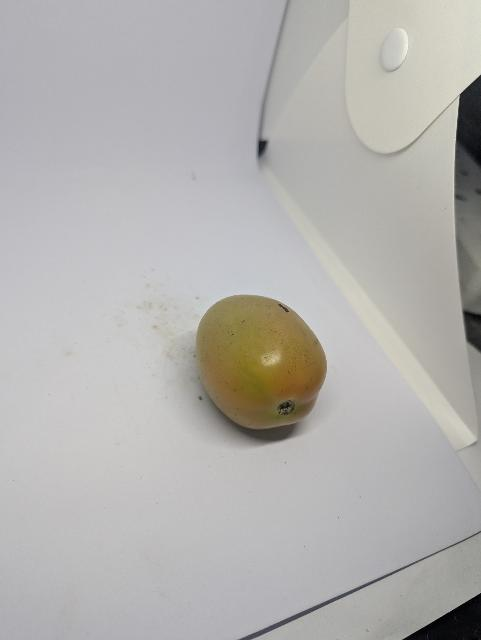breaker: (190, 290, 339, 443)
